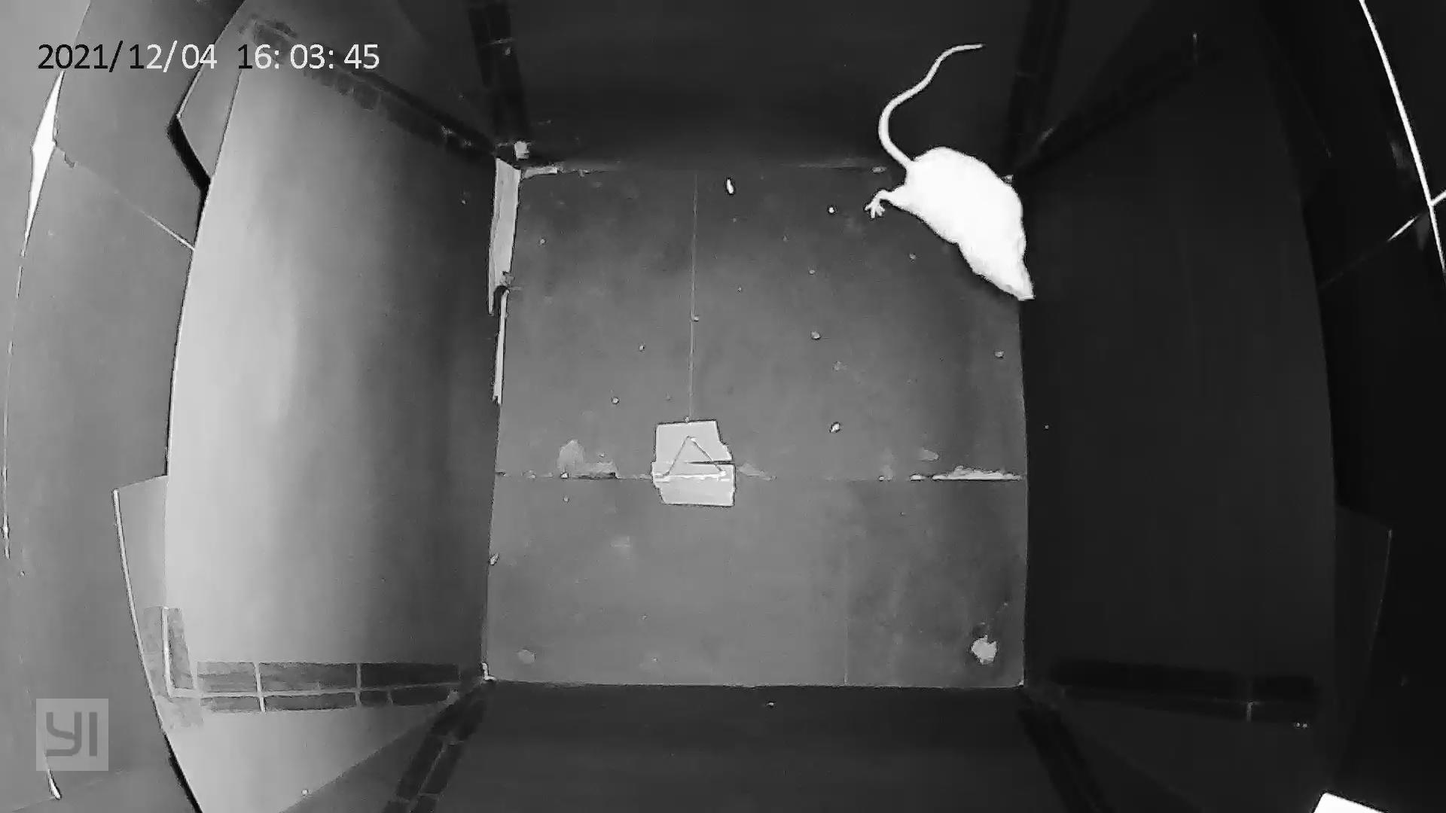rat: (853, 19, 1056, 314)
